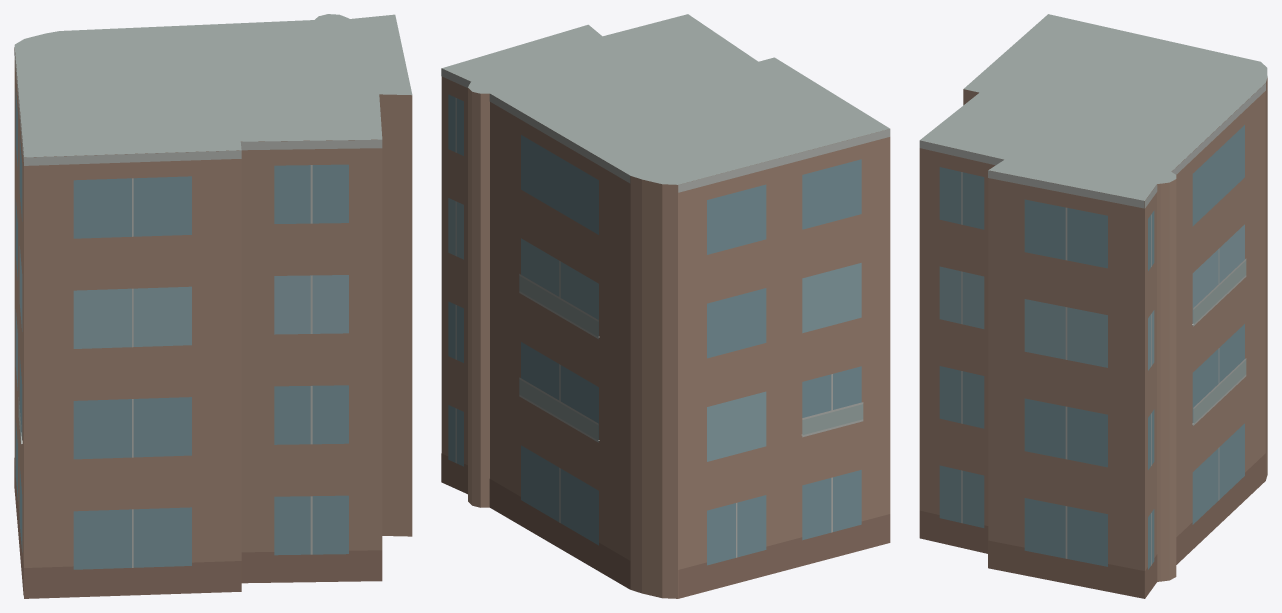
Rendered from survey-upis-32970878.glb.
3 renders of one model, left to right at view 1: azimuth 30°, elevation 25°; view 2: azimuth 150°, elevation 25°; view 3: azimuth 270°, elevation 25°, orthographic. The views are drawn at different scales.
Parts seen in each view (by area): view 1: survey-upis-32970878.tmp; view 2: survey-upis-32970878.tmp; view 3: survey-upis-32970878.tmp.
Part boxes in pixels (left/top/right/bottom): survey-upis-32970878.tmp: left=14, top=14, right=412, bottom=598; survey-upis-32970878.tmp: left=441, top=14, right=890, bottom=598; survey-upis-32970878.tmp: left=919, top=14, right=1267, bottom=598.
Size of the model in its own units: 12.7 by 12.6 by 9.99.
